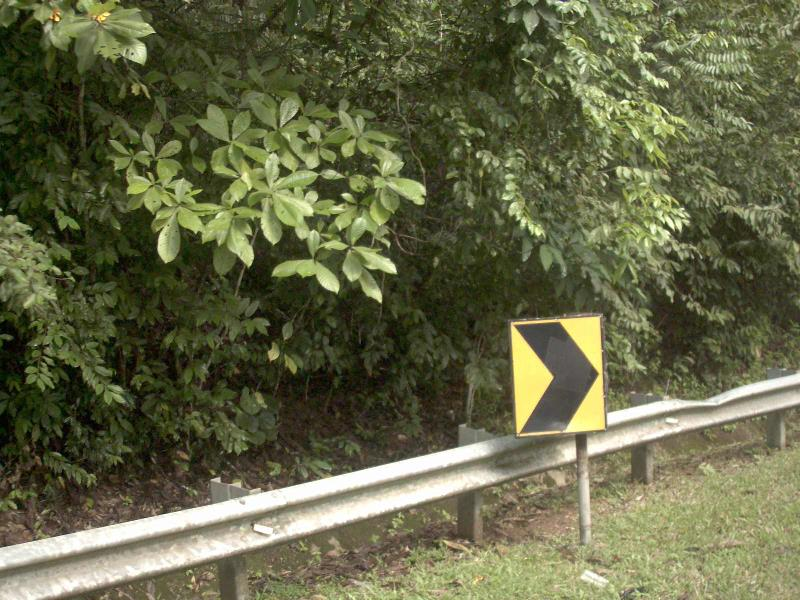traffic_sign: (500, 299, 621, 453)
